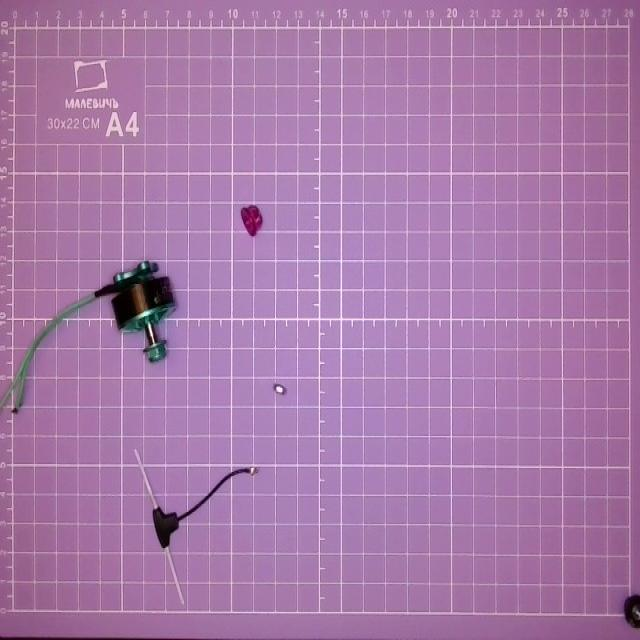antenna: (129, 443, 265, 610)
motor: (1, 258, 175, 412)
screw_M3: (269, 372, 292, 402)
screw_M5: (236, 198, 266, 239), (622, 591, 640, 633)
